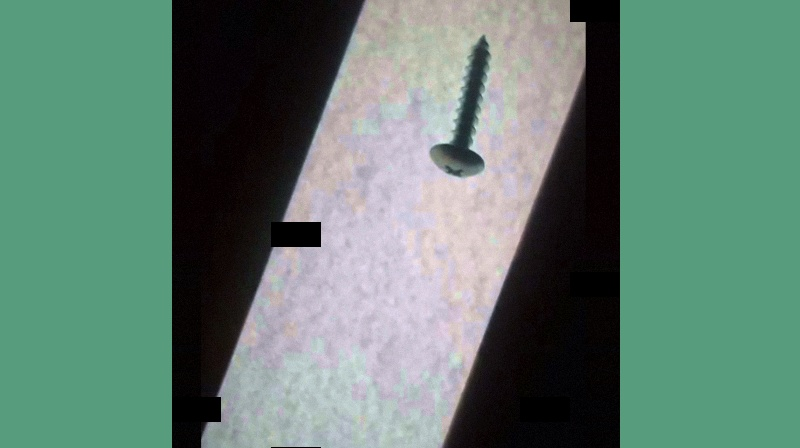S003: (424, 30, 493, 181)
